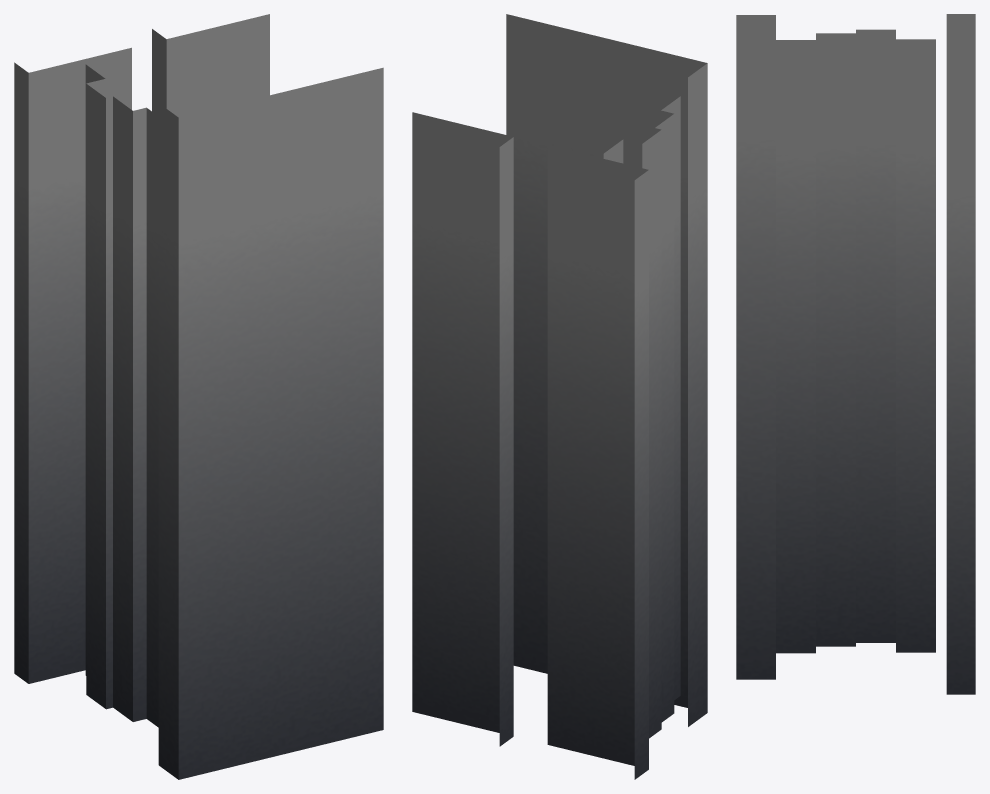
The model's file is Key_Walls.fbx.
The picture shows the model from 3 angles, left to right: view 1: azimuth 30°, elevation 25°; view 2: azimuth 150°, elevation 25°; view 3: azimuth 270°, elevation 25°; orthographic projection. The views are drawn at different scales.
Visible parts, largest first — view 1: Key_Walls; view 2: Key_Walls; view 3: Key_Walls.
Boxes of the visible parts, x1,y1,x2,y2 form: Key_Walls: (14, 14, 383, 779); Key_Walls: (412, 14, 707, 779); Key_Walls: (736, 14, 975, 694).
Size of the model in its own units: 726 by 1837 by 600.
1 material, 1 textured.
